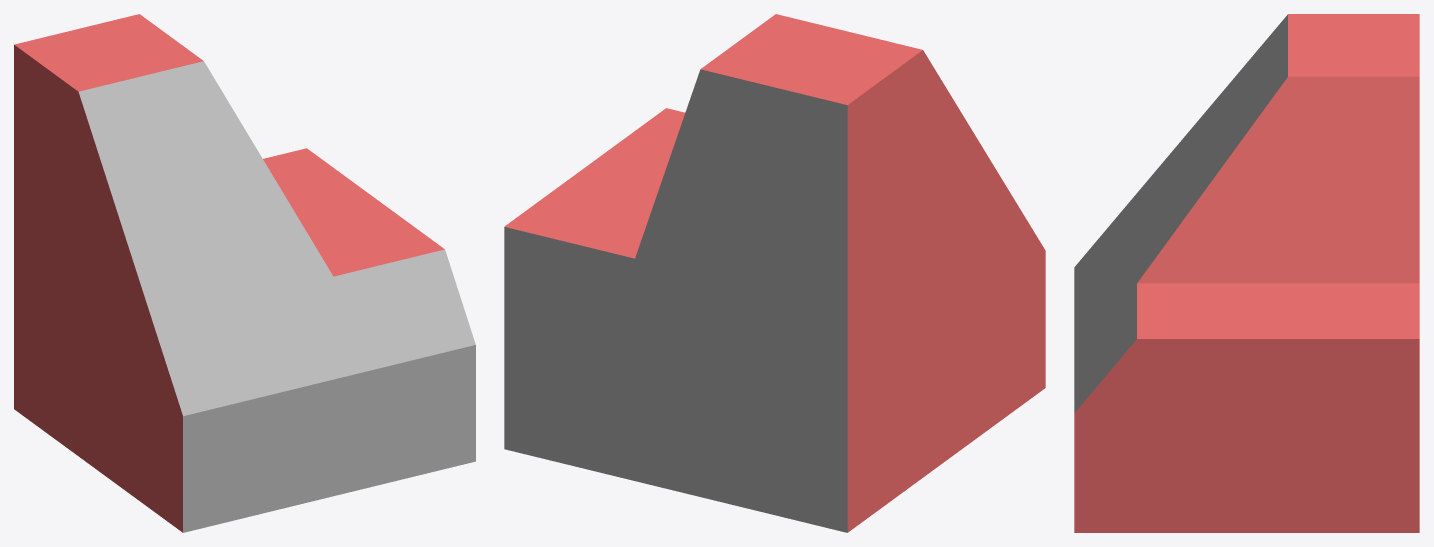
The model's file is tenkaizu4.glb.
The picture shows the model from 3 angles, left to right: view 1: azimuth 30°, elevation 25°; view 2: azimuth 150°, elevation 25°; view 3: azimuth 270°, elevation 25°; orthographic projection. The views are drawn at different scales.
Visible parts, largest first — view 1: tenkaizu4.SLDPRT; view 2: tenkaizu4.SLDPRT; view 3: tenkaizu4.SLDPRT.
Part boxes in pixels (box(x1,y1,x2,y2)): tenkaizu4.SLDPRT: box(14, 14, 475, 532); tenkaizu4.SLDPRT: box(504, 14, 1045, 532); tenkaizu4.SLDPRT: box(1074, 14, 1419, 532).
Size of the model in its own units: 0.021 by 0.025 by 0.021.
